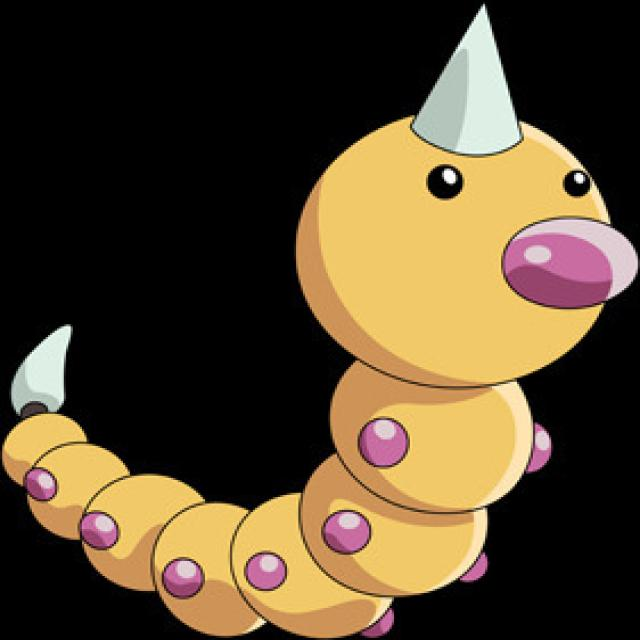Weedle: (0, 7, 631, 640)
